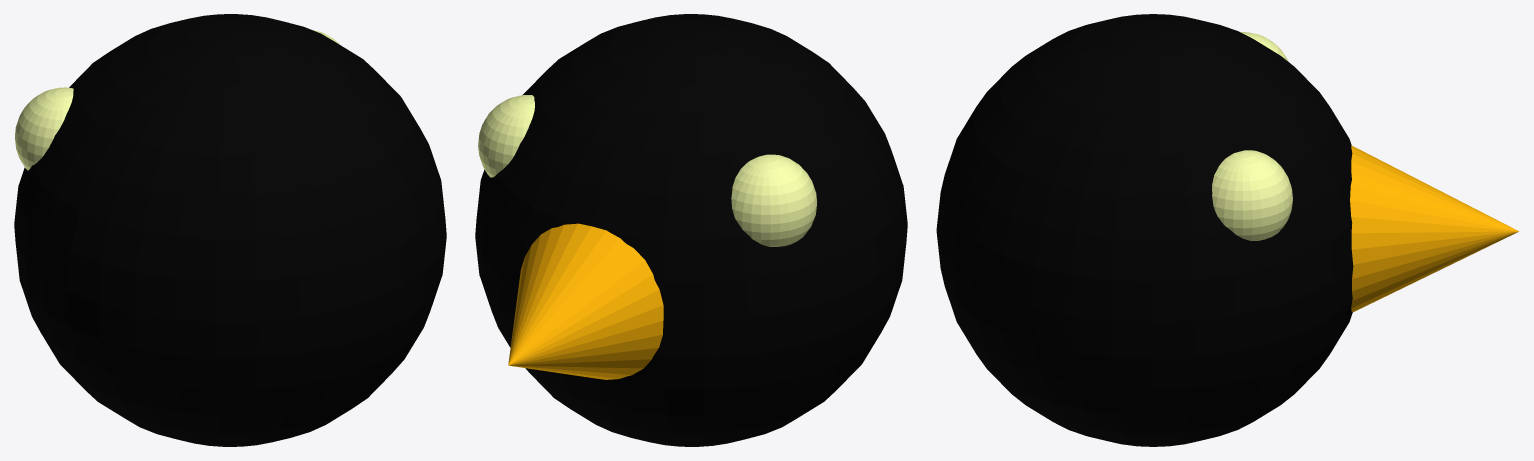
The model's file is Enemy.obj.
The picture shows the model from 3 angles, left to right: view 1: azimuth 30°, elevation 25°; view 2: azimuth 150°, elevation 25°; view 3: azimuth 270°, elevation 25°; orthographic projection.
Parts seen in each view (by area): view 1: 球; view 2: 球; view 3: 球.
Part boxes in pixels (x1,y1,x2,y2): 球: (14,14,446,446); 球: (475,14,907,446); 球: (936,14,1518,446).
Bounding box in the file's own units: 1.43 × 1.43 × 1.93.
Materials: 1 (1 with a texture image).
